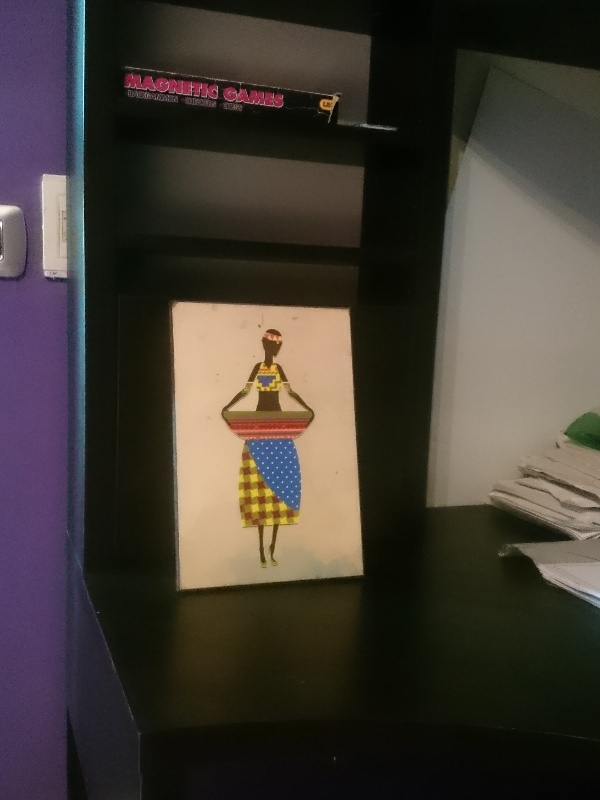my image: (172, 304, 362, 589)
